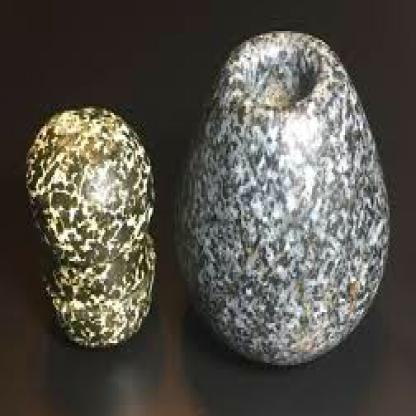Igneous_Diorite: (175, 29, 395, 372), (25, 93, 155, 352)
